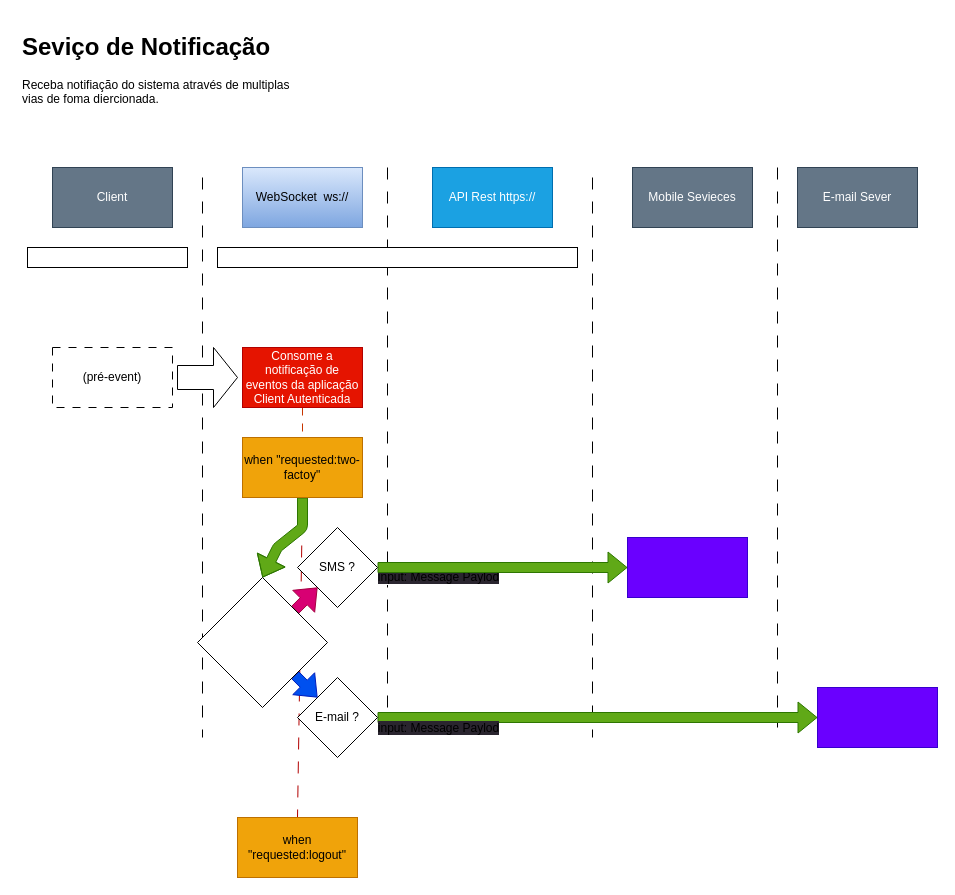
The diagram is 955 pixels wide and 895 high, and some of its shapes have lost their labels. Each missing label, with the centre of its shape:
Applicaction Client: the point at 107,257
Applicaction Server: the point at 397,257
Onde está o Usuário?: the point at 262,642
Send E-mail: the point at 877,717
Send SMS: the point at 687,567
